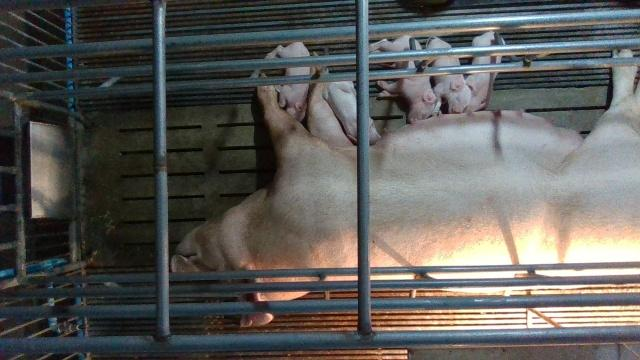piglet: (372, 36, 437, 125), (421, 36, 476, 114), (325, 78, 381, 145), (268, 43, 312, 122), (469, 31, 505, 112)
sow-sleep-lactate: (172, 49, 640, 328)
